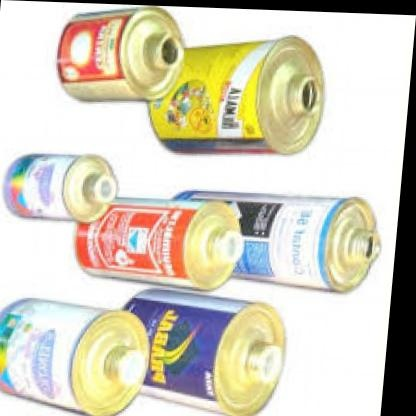trash: (58, 7, 323, 153), (0, 290, 284, 415), (175, 191, 380, 291), (149, 36, 323, 153), (126, 289, 284, 415), (0, 299, 148, 415), (76, 201, 242, 289), (58, 7, 183, 100), (4, 154, 117, 221)
